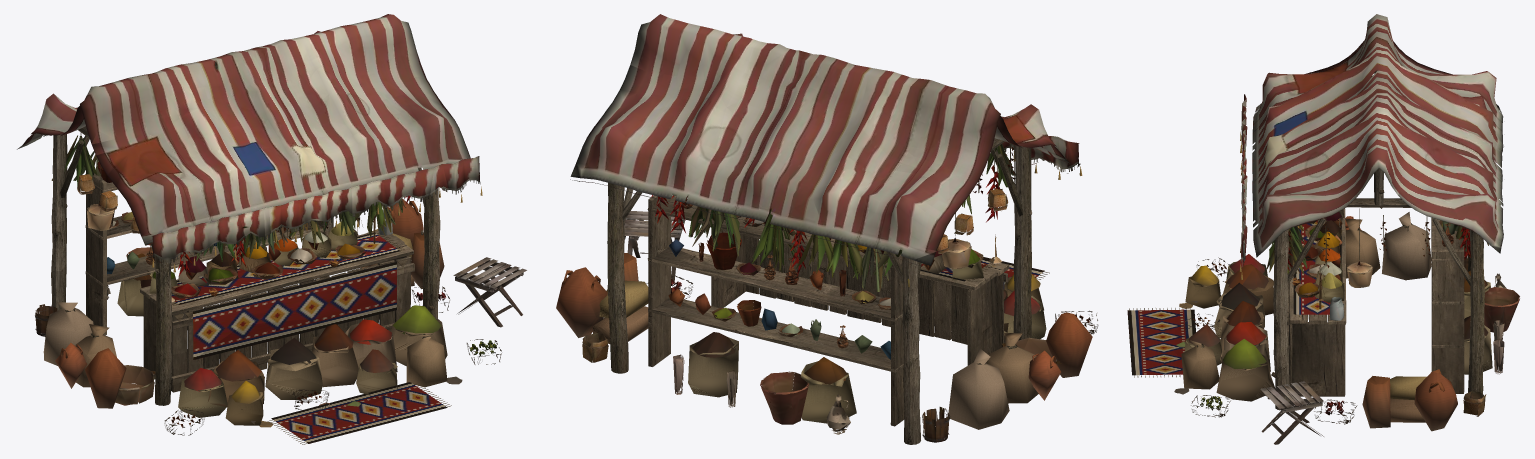
Rendered from village-kiosk-1-v3-lite.glb.
The picture shows the model from 3 angles, left to right: view 1: azimuth 30°, elevation 25°; view 2: azimuth 150°, elevation 25°; view 3: azimuth 270°, elevation 25°; orthographic projection. The views are drawn at different scales.
Parts seen in each view (by area): view 1: K1_Cloth, K1_Props, K1_Sack, K1_Wood, K1_Bark; view 2: K1_Cloth, K1_Props, K1_Wood, K1_Sack, K1_Bark; view 3: K1_Cloth, K1_Props, K1_Sack, K1_Wood, K1_Bark.
Boxes of the visible parts, <box> form: K1_Cloth: <box>17,14,480,264</box>; K1_Props: <box>35,132,526,444</box>; K1_Sack: <box>43,229,447,425</box>; K1_Wood: <box>85,172,414,392</box>; K1_Bark: <box>51,62,440,405</box>; K1_Cloth: <box>570,14,1080,266</box>; K1_Props: <box>556,143,1098,442</box>; K1_Wood: <box>647,195,1009,426</box>; K1_Sack: <box>592,255,1046,429</box>; K1_Bark: <box>607,138,1031,444</box>; K1_Cloth: <box>1240,14,1503,266</box>; K1_Props: <box>1127,132,1519,444</box>; K1_Sack: <box>1181,210,1492,422</box>; K1_Wood: <box>1287,209,1464,396</box>; K1_Bark: <box>1271,71,1484,410</box>.
Bounding box in the file's own units: 4.86 × 3.05 × 4.1.
Materials: 5 (5 with a texture image).
